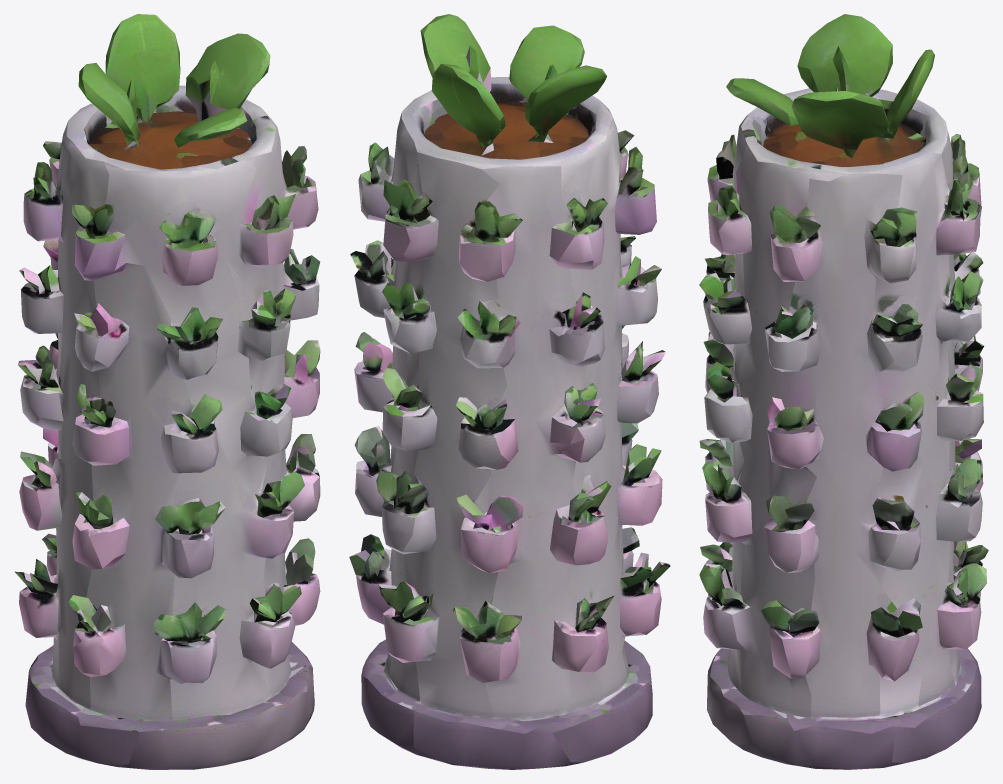
Rendered from hydro_tower.glb.
3 views of the same model, side by side, from view 1: azimuth 30°, elevation 25°; view 2: azimuth 150°, elevation 25°; view 3: azimuth 270°, elevation 25° (orthographic).
Parts seen in each view (by area): view 1: hydro_tower_s41; view 2: hydro_tower_s41; view 3: hydro_tower_s41.
Boxes of the visible parts, x1,y1,x2,y2 form: hydro_tower_s41: [15, 14, 320, 769]; hydro_tower_s41: [349, 14, 670, 769]; hydro_tower_s41: [699, 14, 988, 769].
Bounding box in the file's own units: 0.397 × 1 × 0.3961.
Materials: 1 (1 with a texture image).
